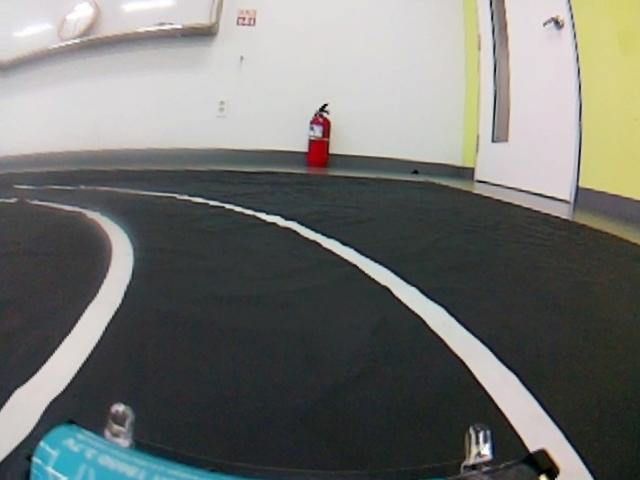straight: (0, 223, 609, 479)
